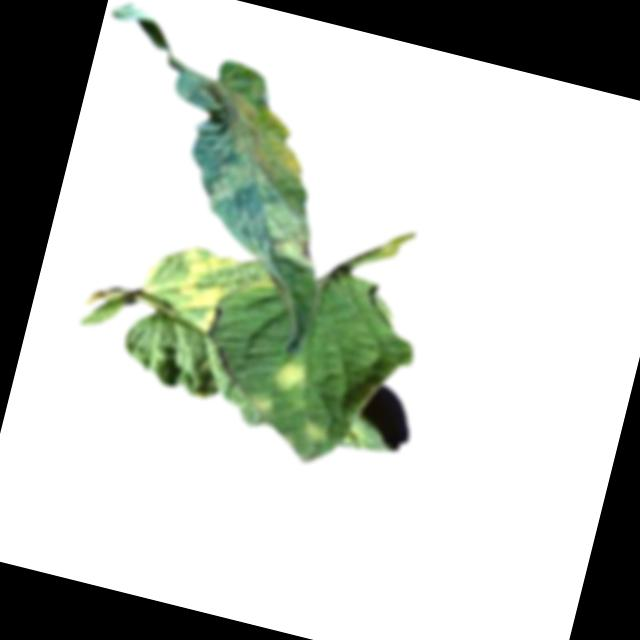Leaf_Mold: (212, 92, 319, 187), (166, 245, 239, 336), (247, 208, 326, 273), (267, 352, 309, 398), (244, 390, 275, 420), (300, 419, 330, 448)
